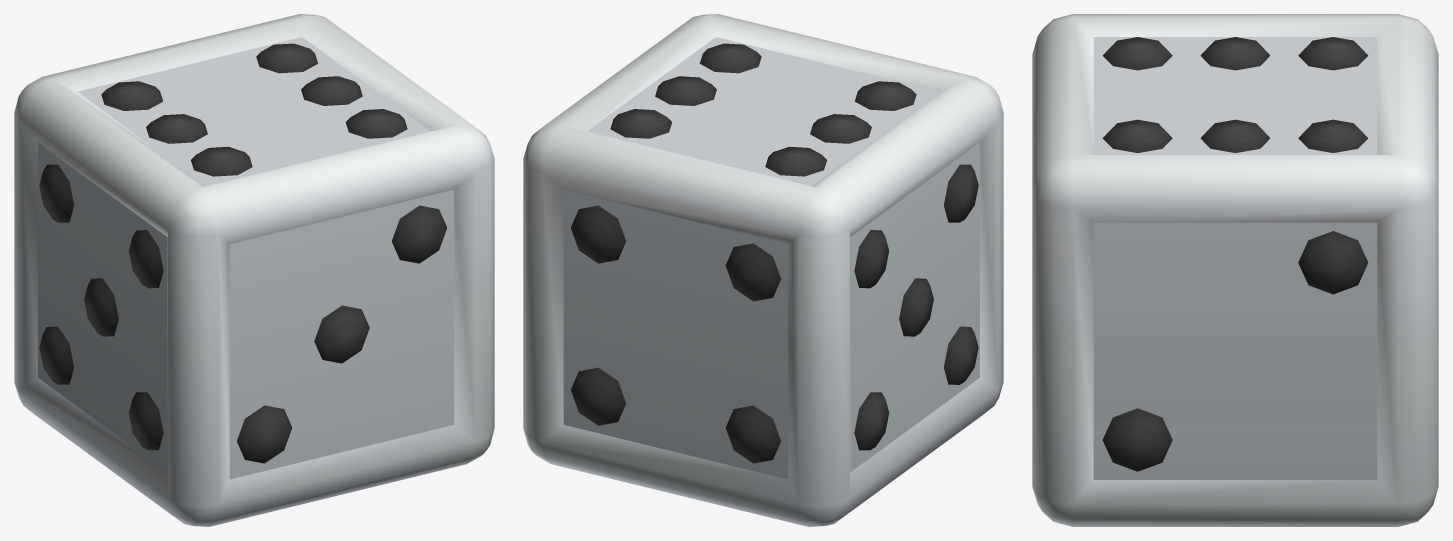
Rendered from board.d6_b.glb.
The picture shows the model from 3 angles, left to right: view 1: azimuth 30°, elevation 25°; view 2: azimuth 150°, elevation 25°; view 3: azimuth 270°, elevation 25°; orthographic projection. The views are drawn at different scales.
Visible parts, largest first — view 1: D6_B; view 2: D6_B; view 3: D6_B.
Boxes of the visible parts, <box> form: D6_B: <box>14,14,494,526</box>; D6_B: <box>523,14,1003,526</box>; D6_B: <box>1032,14,1438,526</box>.
Size of the model in its own units: 0.02 by 0.02 by 0.02.
1 material, 1 textured.
